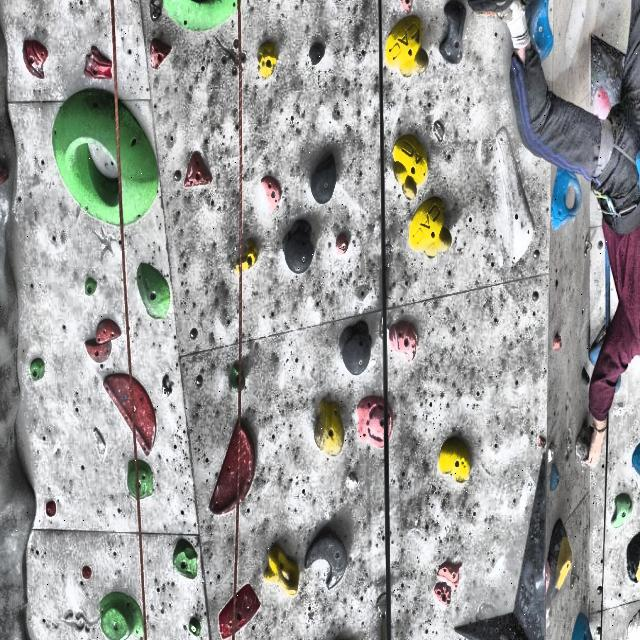Hold: (497, 124, 534, 264), (209, 422, 256, 515), (104, 373, 156, 455), (385, 16, 428, 77), (305, 530, 348, 589), (409, 198, 451, 258), (392, 134, 429, 200), (219, 586, 260, 639), (100, 592, 144, 640), (357, 396, 394, 448), (137, 263, 170, 320), (339, 320, 372, 376), (551, 169, 581, 230), (264, 544, 299, 596), (439, 0, 466, 65), (282, 220, 314, 274), (314, 400, 345, 455), (526, 0, 554, 59), (438, 436, 471, 484), (311, 152, 337, 204), (389, 320, 418, 362), (566, 0, 586, 60), (184, 151, 212, 188), (84, 45, 113, 80), (128, 460, 154, 499), (23, 40, 48, 80), (173, 539, 197, 580), (234, 240, 259, 273), (610, 494, 632, 528), (261, 176, 282, 211), (148, 38, 171, 69), (258, 43, 277, 79), (627, 532, 640, 583), (438, 561, 461, 588), (96, 321, 120, 345), (572, 613, 592, 640), (434, 578, 453, 605), (86, 343, 109, 361), (229, 363, 243, 392), (627, 609, 640, 640), (30, 358, 45, 382), (309, 43, 324, 65), (335, 233, 349, 256), (550, 462, 560, 492), (188, 617, 202, 637), (632, 443, 640, 477), (84, 276, 97, 296), (0, 162, 9, 187), (614, 398, 628, 413), (400, 0, 414, 15), (580, 367, 590, 387), (45, 501, 57, 517), (552, 333, 562, 352), (548, 439, 556, 462), (82, 566, 92, 580), (538, 436, 546, 449)
Macro: (56, 94, 159, 226), (165, 0, 245, 35)
Unknown: (549, 518, 572, 600), (592, 85, 612, 119), (575, 422, 591, 463), (546, 592, 553, 626), (545, 559, 550, 593)
Volume: (454, 453, 546, 640), (589, 35, 625, 116)
